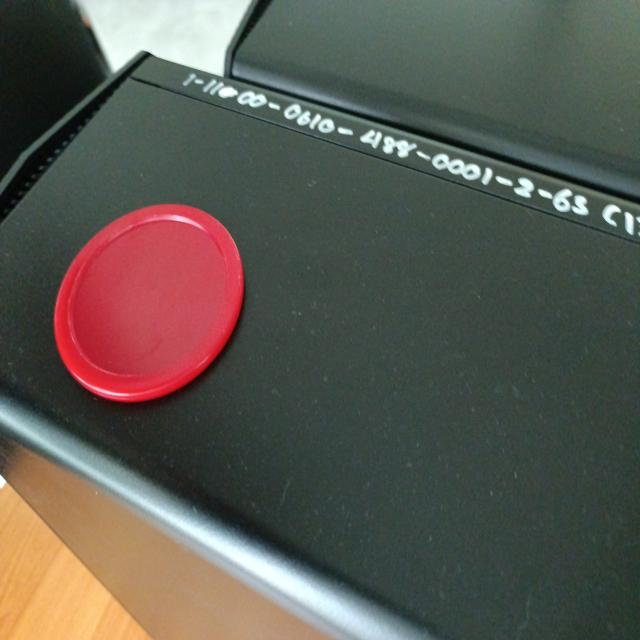chip: (51, 198, 248, 404)
